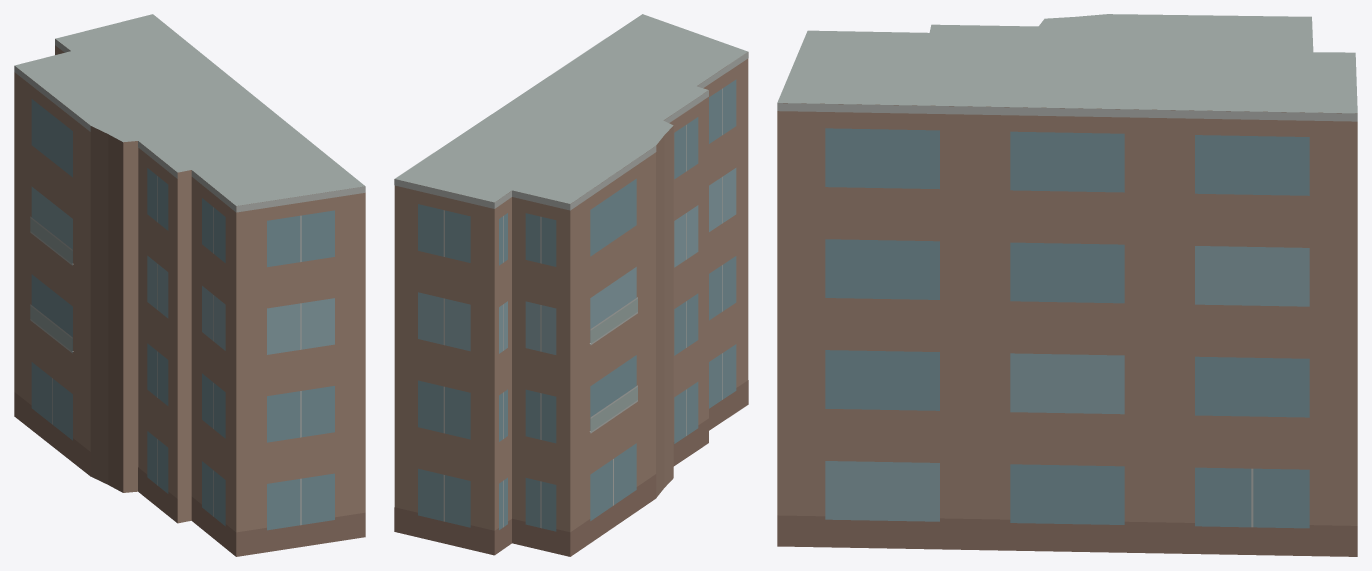
Rendered from survey-upis-32469347.glb.
3 views of the same model, side by side, from view 1: azimuth 30°, elevation 25°; view 2: azimuth 150°, elevation 25°; view 3: azimuth 270°, elevation 25° (orthographic). The views are drawn at different scales.
Visible parts, largest first — view 1: survey-upis-32469347.tmp; view 2: survey-upis-32469347.tmp; view 3: survey-upis-32469347.tmp.
Boxes of the visible parts, x1,y1,x2,y2 form: survey-upis-32469347.tmp: (14,14,365,556); survey-upis-32469347.tmp: (394,14,748,556); survey-upis-32469347.tmp: (777,14,1357,556).
Bounding box in the file's own units: 6.35 × 13.2 × 15.67.
